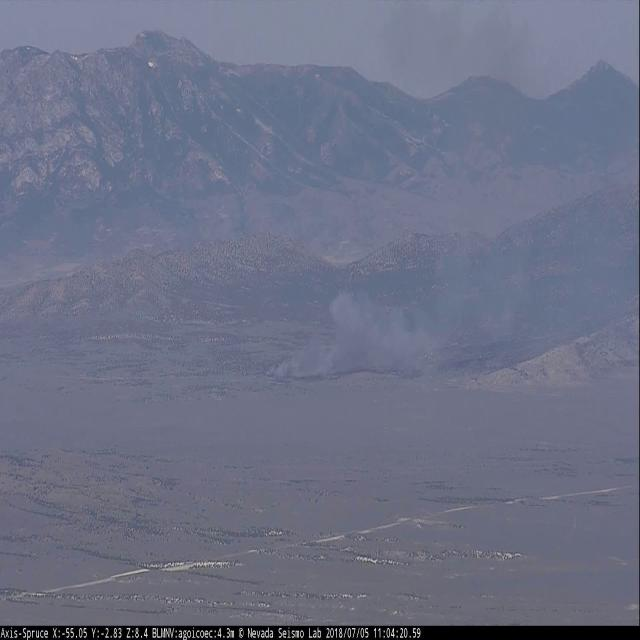smoke: (256, 227, 541, 390)
